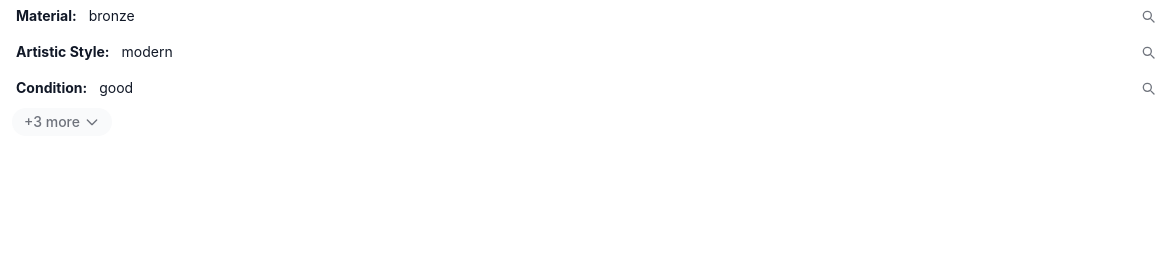
Scenario: TagBadge › Expansion/Collapse › expands to show all tags when expand button clicked
The image size is (1164, 257).
Click the button "+3 more" at point(62, 122), box [12, 108, 112, 136]
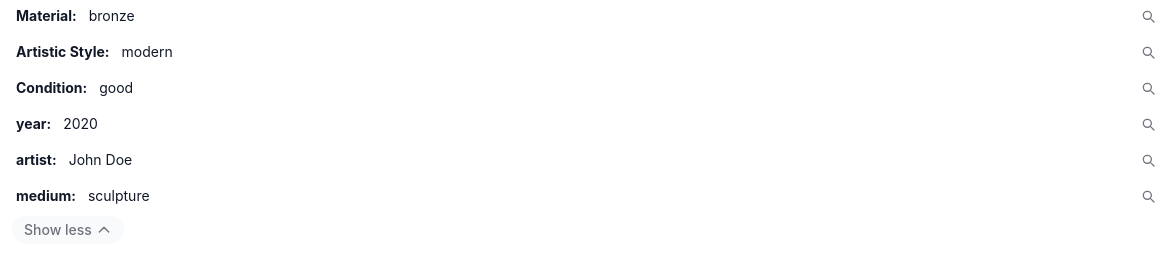
Check: the number of buttons with class "cursor-pointer" is 6, box [16, 7, 1156, 24]; [16, 43, 1156, 60]; [16, 79, 1156, 96]; [16, 115, 1156, 132]; [16, 151, 1156, 168]; [16, 187, 1156, 204]
Check: the text "Show less" is shown, box [24, 220, 92, 240]
